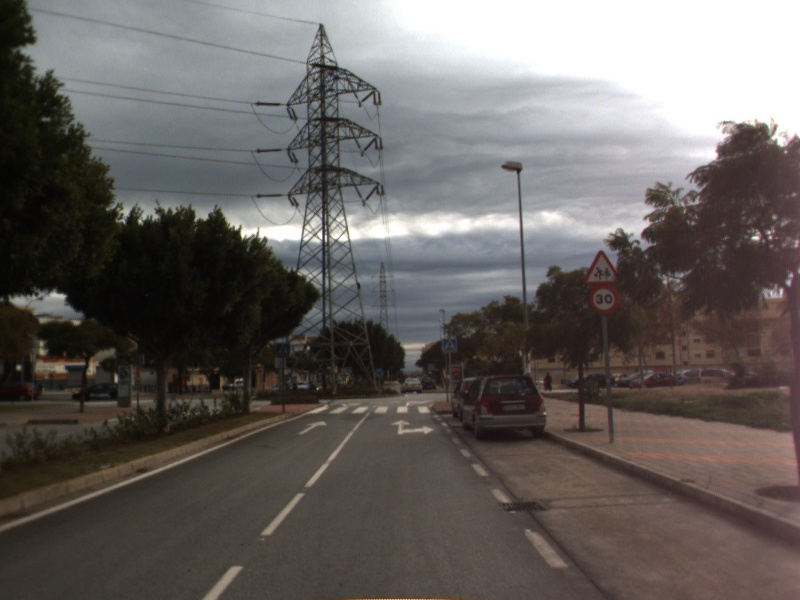STRAIGHT: (296, 419, 329, 436)
STRAIGHT_RIGHT: (389, 417, 436, 436)
